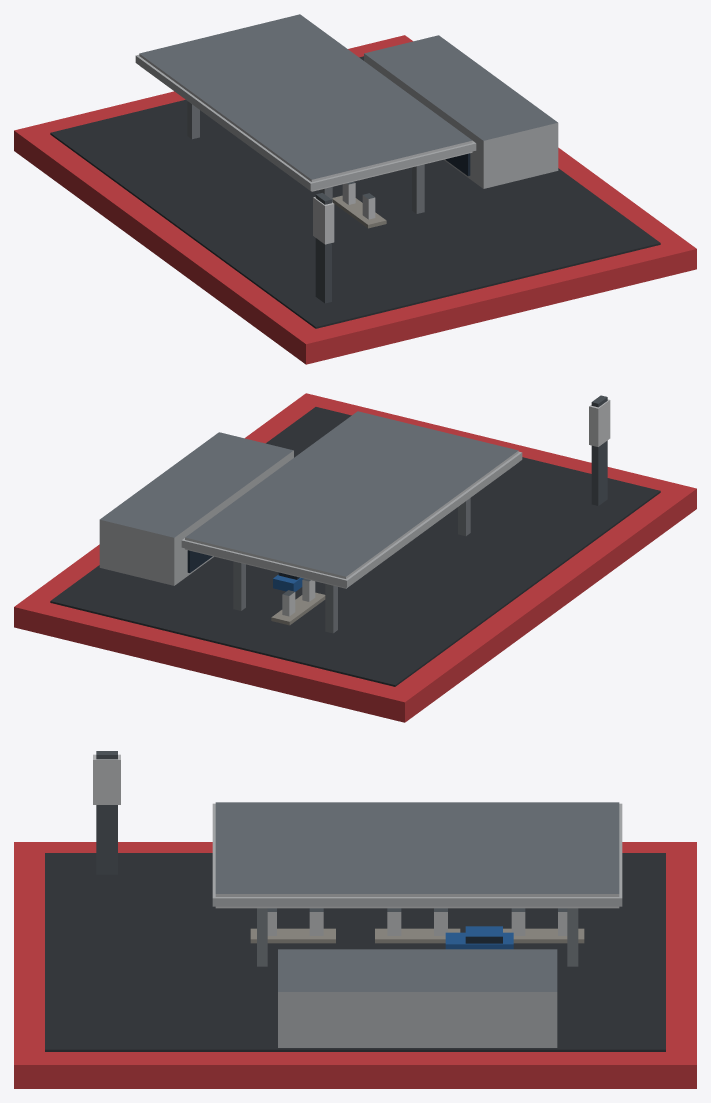
The model's file is fuel_station_red.glb.
The picture shows the model from 3 angles, top to bottom: view 1: azimuth 30°, elevation 25°; view 2: azimuth 150°, elevation 25°; view 3: azimuth 270°, elevation 25°; orthographic projection. The views are drawn at different scales.
Parts seen in each view (by area): view 1: fuel_station_red; view 2: fuel_station_red; view 3: fuel_station_red.
Boxes of the visible parts, x1,y1,x2,y2 form: fuel_station_red: (14,14,696,364); fuel_station_red: (14,393,696,722); fuel_station_red: (14,751,696,1088).
Size of the model in its own units: 34 by 10.35 by 44.
